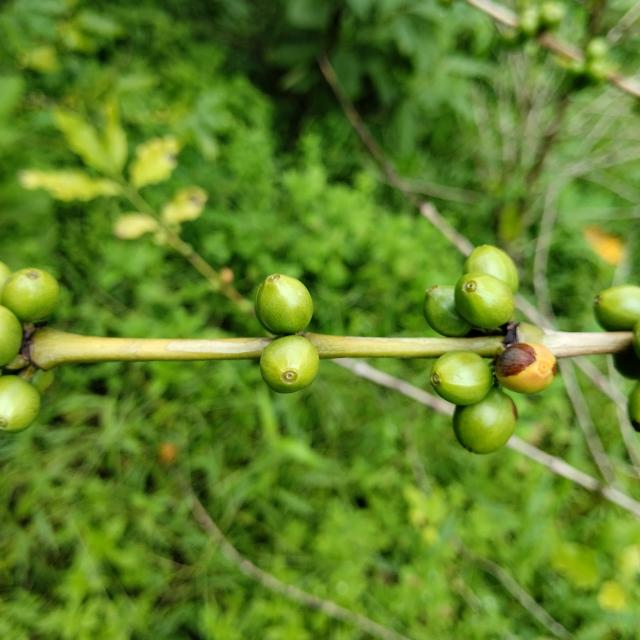green: (453, 387, 519, 455), (255, 274, 313, 335), (260, 335, 319, 394), (431, 351, 494, 406), (455, 272, 515, 329), (1, 268, 59, 321), (465, 244, 520, 294), (424, 285, 474, 337), (0, 375, 39, 433), (595, 285, 640, 331), (0, 305, 22, 367)
red: (495, 342, 557, 394)
